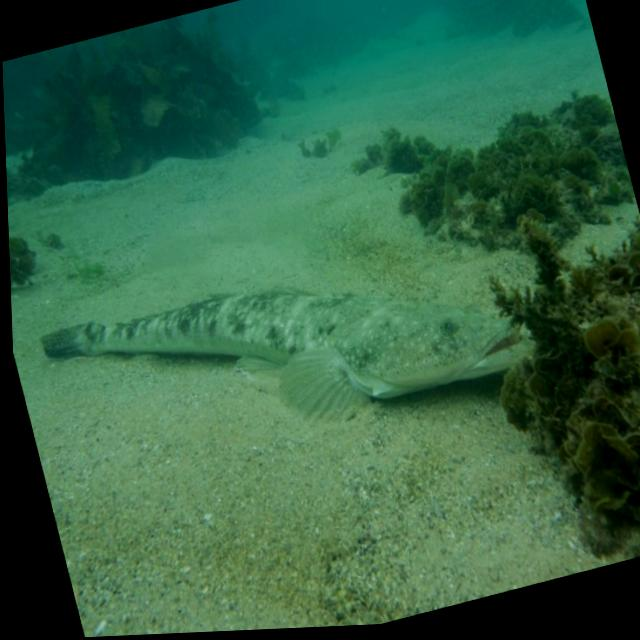Flathead: (15, 180, 567, 524)
